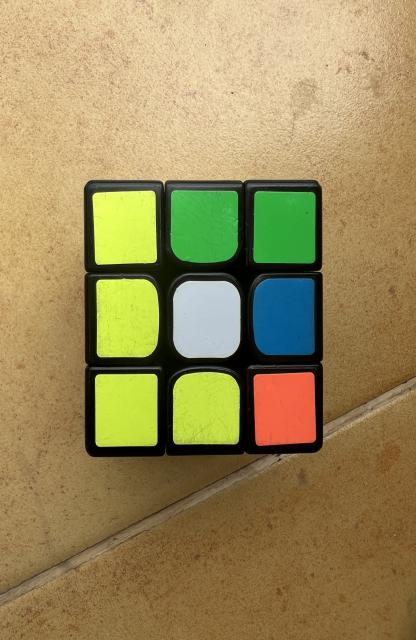Blue: (252, 279, 315, 355)
Green: (170, 190, 238, 262), (254, 191, 315, 264)
Orange: (254, 372, 316, 446)
White: (172, 281, 240, 359)
Yellow: (96, 279, 159, 358), (172, 371, 239, 445), (92, 190, 157, 265), (95, 374, 157, 448)
